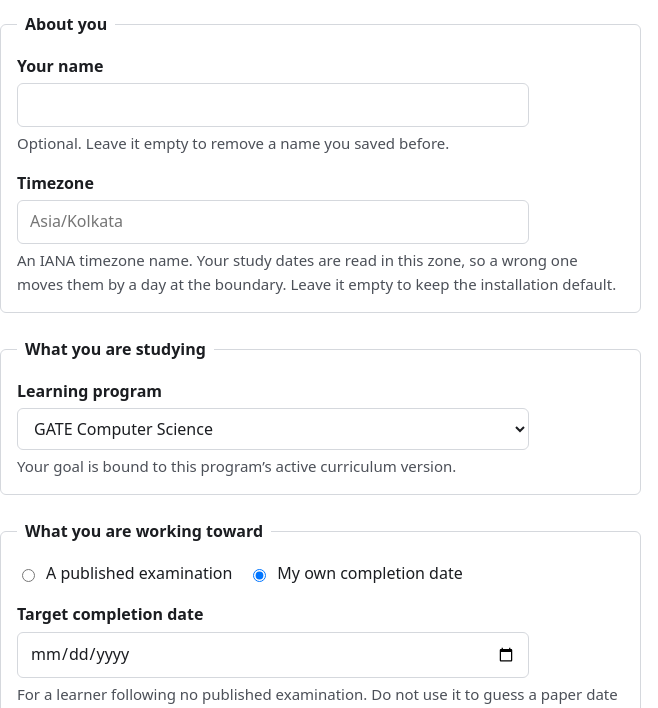
Test: LearnerSetupForm › explains the missing schedule if the learner picks the examination anyway
Click the radio button labelled "A published examination": (28, 575) [22, 568, 35, 582]
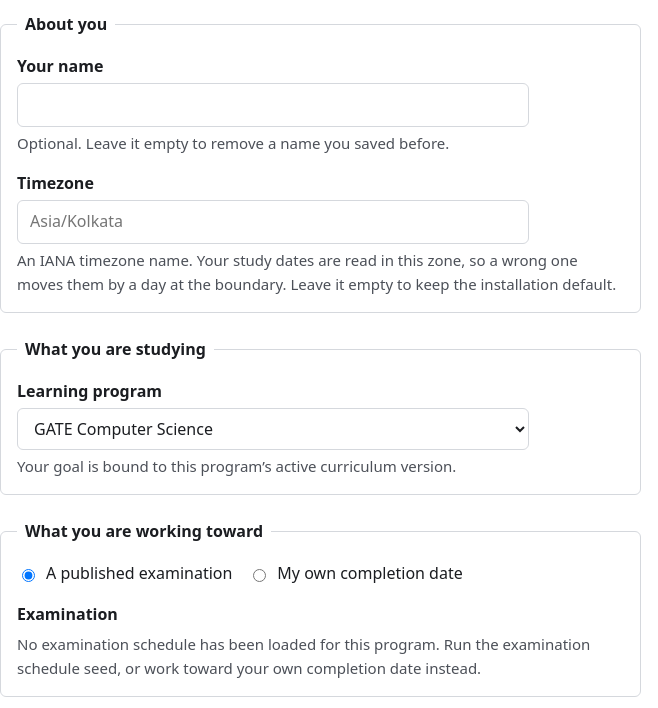
expect the text "No examination schedule has been loaded" is shown: met, box [17, 634, 590, 678]
